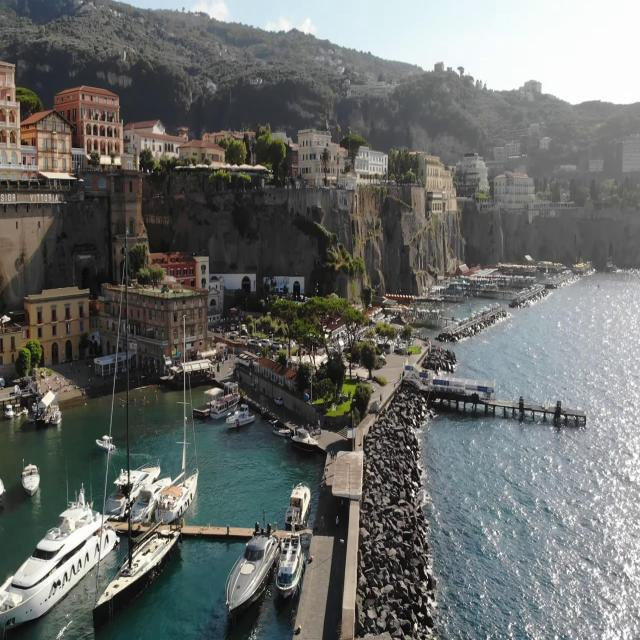boat: (0, 479, 116, 627), (224, 510, 274, 616), (105, 456, 162, 516), (278, 532, 304, 600), (130, 473, 168, 519), (288, 478, 314, 528), (20, 456, 42, 502), (295, 422, 321, 460), (211, 392, 235, 420), (228, 401, 254, 426), (96, 432, 116, 456), (52, 408, 62, 427), (5, 404, 14, 418)
sailboat: (90, 230, 180, 633), (156, 312, 197, 518)
